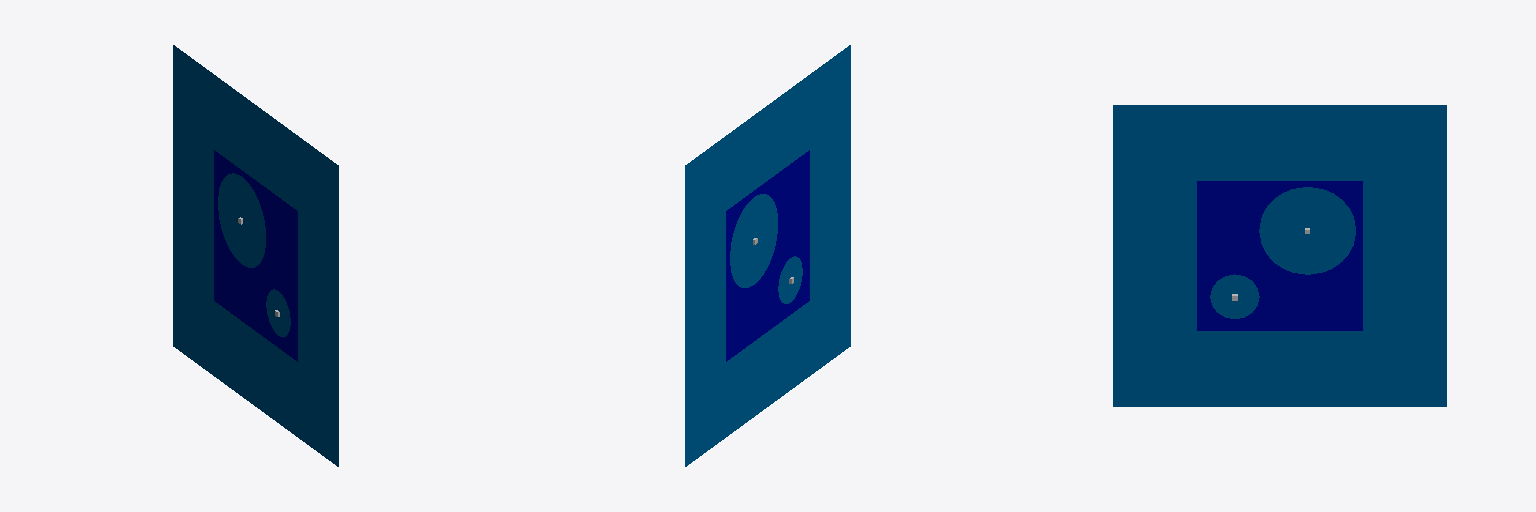
Rendered from shooter.obj.
3 renders of one model, left to right at view 1: azimuth 30°, elevation 25°; view 2: azimuth 150°, elevation 25°; view 3: azimuth 270°, elevation 25°, orthographic.
Parts seen in each view (by area): view 1: background_2_Plane.002, solid_1_Plane, background_1_Plane.001; view 2: background_2_Plane.002, solid_1_Plane, background_1_Plane.001; view 3: background_2_Plane.002, solid_1_Plane, background_1_Plane.001.
Part boxes in pixels (bbox=[...]): background_2_Plane.002: bbox=[173, 45, 338, 466]; solid_1_Plane: bbox=[214, 150, 297, 361]; background_1_Plane.001: bbox=[218, 173, 290, 337]; background_2_Plane.002: bbox=[685, 45, 850, 466]; solid_1_Plane: bbox=[726, 150, 809, 361]; background_1_Plane.001: bbox=[730, 194, 802, 303]; background_2_Plane.002: bbox=[1113, 105, 1446, 406]; solid_1_Plane: bbox=[1197, 181, 1362, 330]; background_1_Plane.001: bbox=[1210, 187, 1355, 318].
Size of the model in its own units: 0.02 by 1.22 by 1.22.